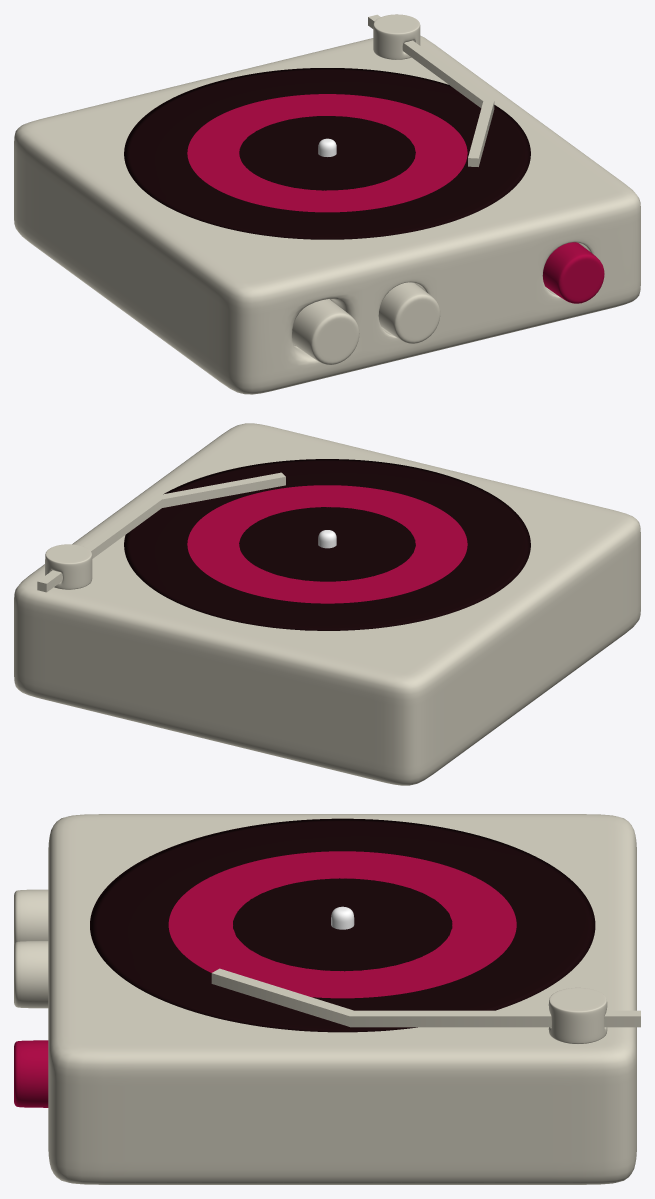
The model's file is 唱片机.glb.
3 views of the same model, one above another, from view 1: azimuth 30°, elevation 25°; view 2: azimuth 150°, elevation 25°; view 3: azimuth 270°, elevation 25° (orthographic). The views are drawn at different scales.
Parts seen in each view (by area): view 1: Box001, Cylinder002, 对象001, Line001, Cylinder003; view 2: Box001, Cylinder002, Line001, Cylinder003; view 3: Box001, Cylinder002, Line001, Cylinder003, 对象001.
Part boxes in pixels (box(x1,y1,x2,y2)): Box001: box(14, 35, 640, 394); Cylinder002: box(124, 68, 530, 239); 对象001: box(542, 242, 604, 303); Line001: box(368, 14, 494, 166); Cylinder003: box(373, 14, 420, 59); Box001: box(14, 423, 640, 785); Cylinder002: box(124, 459, 530, 630); Line001: box(37, 472, 285, 592); Cylinder003: box(45, 544, 92, 589); Box001: box(14, 814, 636, 1184); Cylinder002: box(90, 818, 595, 1032); Line001: box(211, 968, 640, 1027); Cylinder003: box(548, 987, 607, 1043); 对象001: box(14, 1040, 48, 1107).
Bounding box in the file's own units: 0.2 × 0.0623 × 0.2131.
